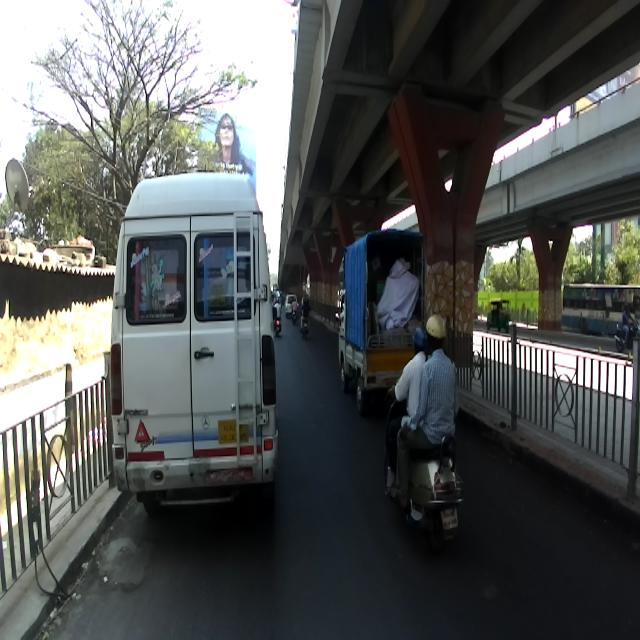bus ahead at: (103, 162, 285, 534)
motorcycle ahead at: (389, 439, 464, 543)
